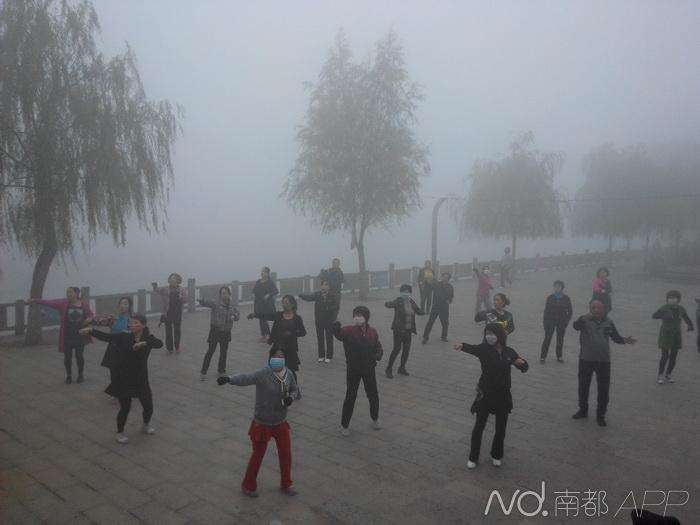person: (215, 345, 301, 499), (79, 309, 164, 444), (454, 323, 529, 469), (572, 297, 636, 428), (324, 305, 385, 436), (38, 286, 96, 387), (246, 294, 307, 374), (193, 286, 237, 383), (652, 290, 693, 383), (385, 283, 424, 379), (296, 280, 340, 363), (150, 270, 191, 354), (539, 281, 572, 362), (420, 270, 454, 343), (254, 268, 278, 340), (83, 297, 138, 328), (474, 293, 515, 329), (413, 259, 437, 313), (471, 265, 495, 313), (591, 265, 615, 312), (319, 258, 343, 287), (498, 246, 515, 286)
